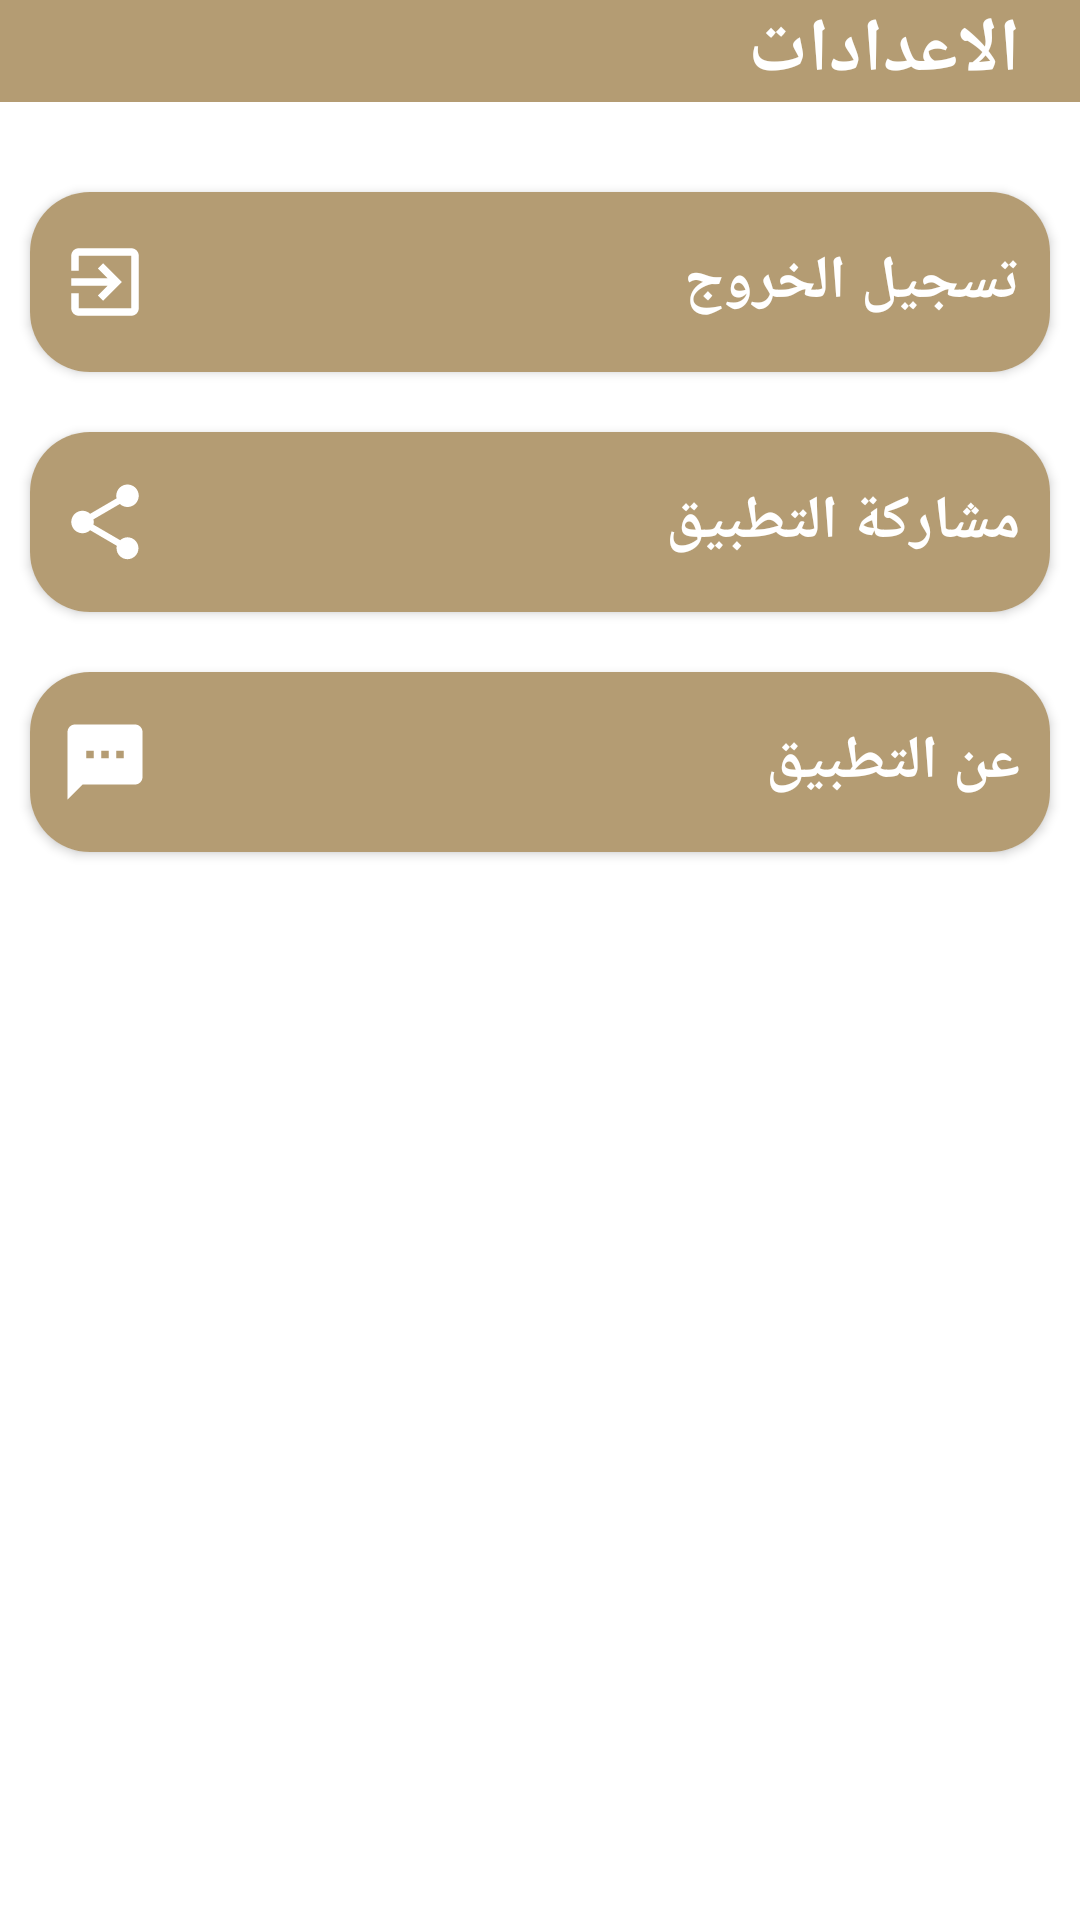

Icons on this 1080*1920 Android screen, each with its box as (x1=x1, y1=y1, x2=x2, y2=y2):
exit to app: (x1=71, y1=248, x2=139, y2=316)
share: (x1=71, y1=484, x2=139, y2=560)
textsms: (x1=67, y1=724, x2=143, y2=800)
